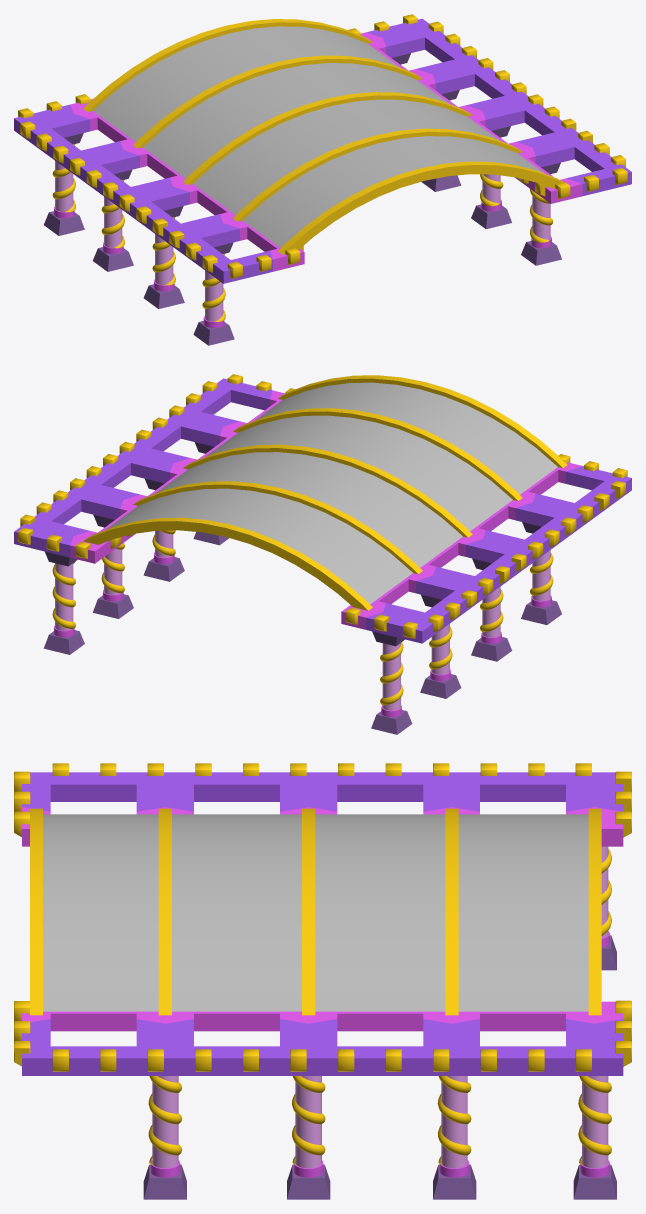
File: BigStructure.fbx
3 views of the same model, one above another, from view 1: azimuth 30°, elevation 25°; view 2: azimuth 150°, elevation 25°; view 3: azimuth 270°, elevation 25° (orthographic). The views are drawn at different scales.
Parts seen in each view (by area): view 1: BigStructure_LOD0; view 2: BigStructure_LOD0; view 3: BigStructure_LOD0.
Boxes of the visible parts, box(x1,y1,x2,y2) form: BigStructure_LOD0: box(14, 14, 631, 345); BigStructure_LOD0: box(14, 374, 631, 734); BigStructure_LOD0: box(14, 763, 631, 1199).
Size of what is drawn, in the model's own units: 8947 by 3271 by 7980.
